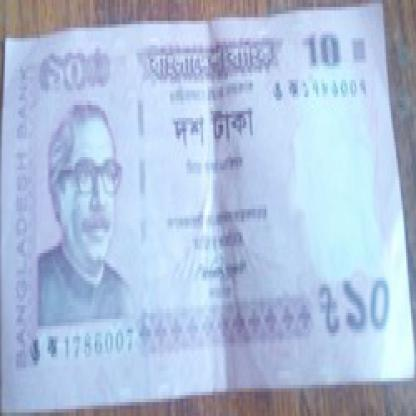Ten Taka: (340, 267, 402, 340), (301, 28, 348, 73), (45, 49, 90, 90)
